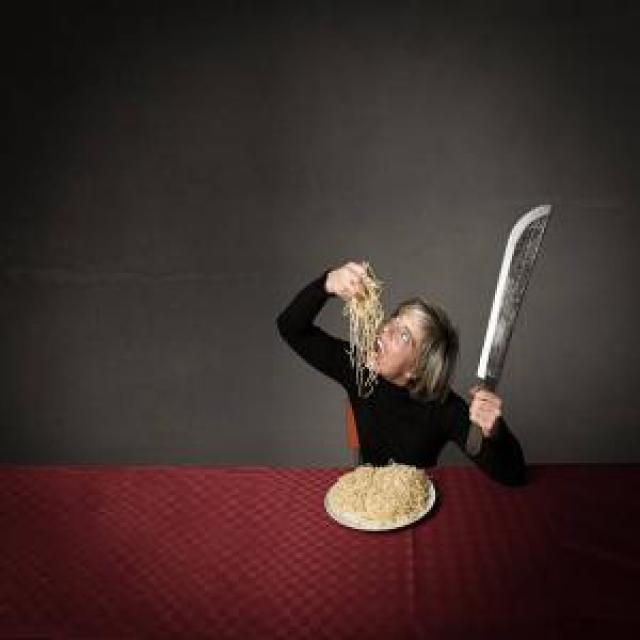knife: (463, 202, 556, 460)
